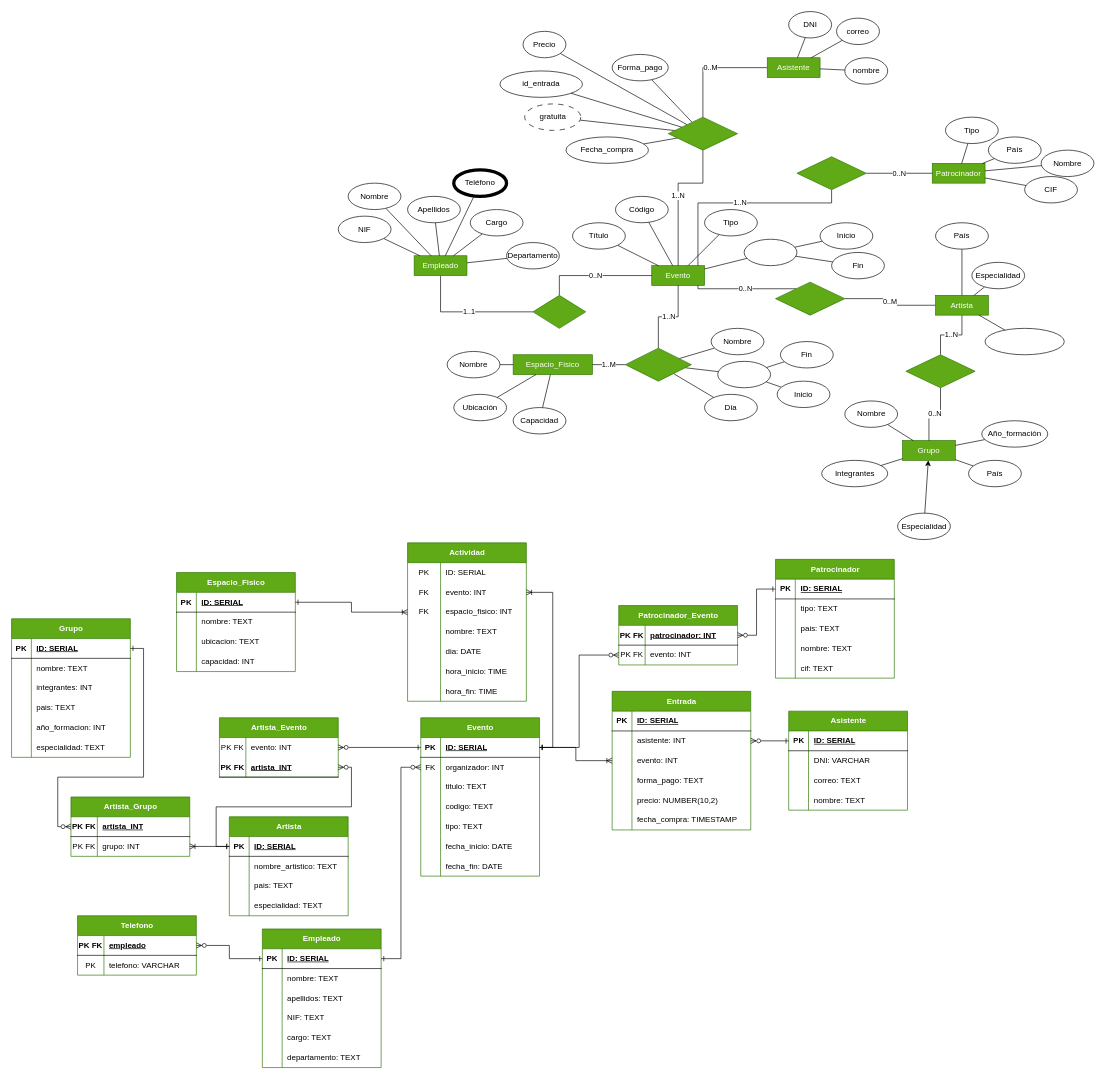
Image size: 1106x1079. Some labels were removed from this diagram. Each missing label, with the centre of its shape:
"asiste (Entrada)" goes at point 703,133.
"Fecha" goes at point 770,252.
"Hora" goes at point 744,374.
"integra" goes at point 940,371.
"Nombre_artístico" goes at point 1024,341.
"ocurre (Actividad)" goes at point 658,364.
"Organiza" goes at point 559,311.
"participa" goes at point 810,298.
"patrocina" goes at point 831,173.
